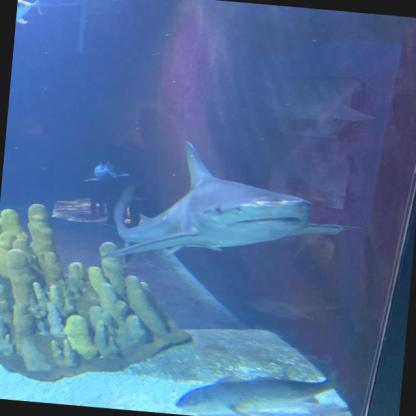fish: (174, 352, 351, 416), (83, 161, 129, 185), (15, 0, 43, 27)
shark: (99, 134, 359, 279)
